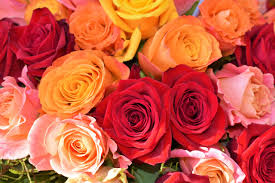lale: (96, 77, 176, 156), (160, 64, 230, 152), (35, 48, 126, 115), (32, 116, 116, 179), (209, 58, 275, 127), (9, 6, 75, 75), (143, 13, 217, 73), (191, 0, 267, 50), (60, 0, 125, 56), (229, 128, 275, 183), (179, 146, 239, 183)
